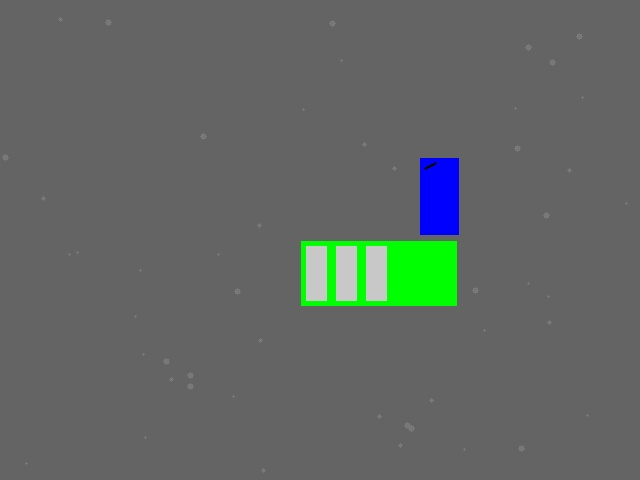bus: (301, 241, 456, 305)
motorcycle: (420, 158, 458, 234)
